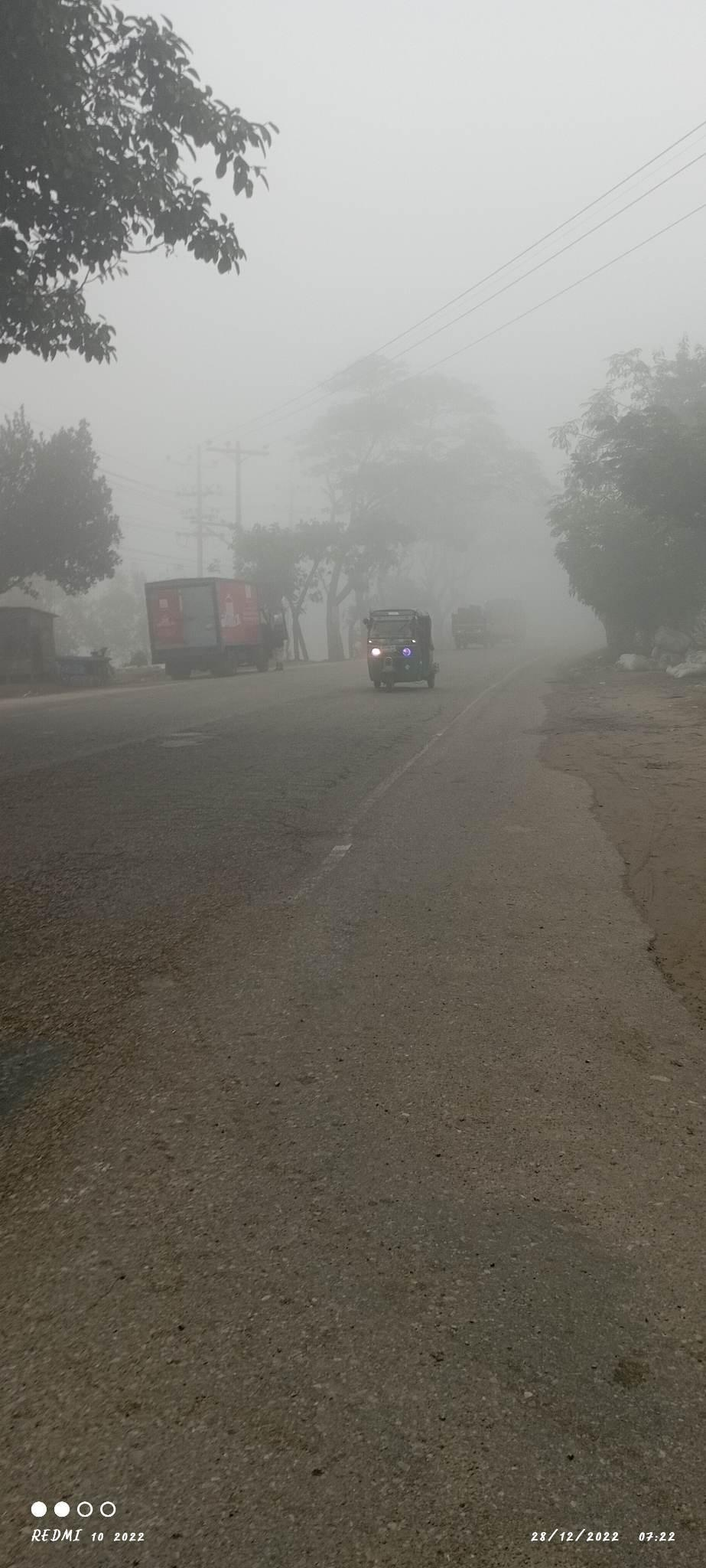Truck: (130, 559, 307, 696)
